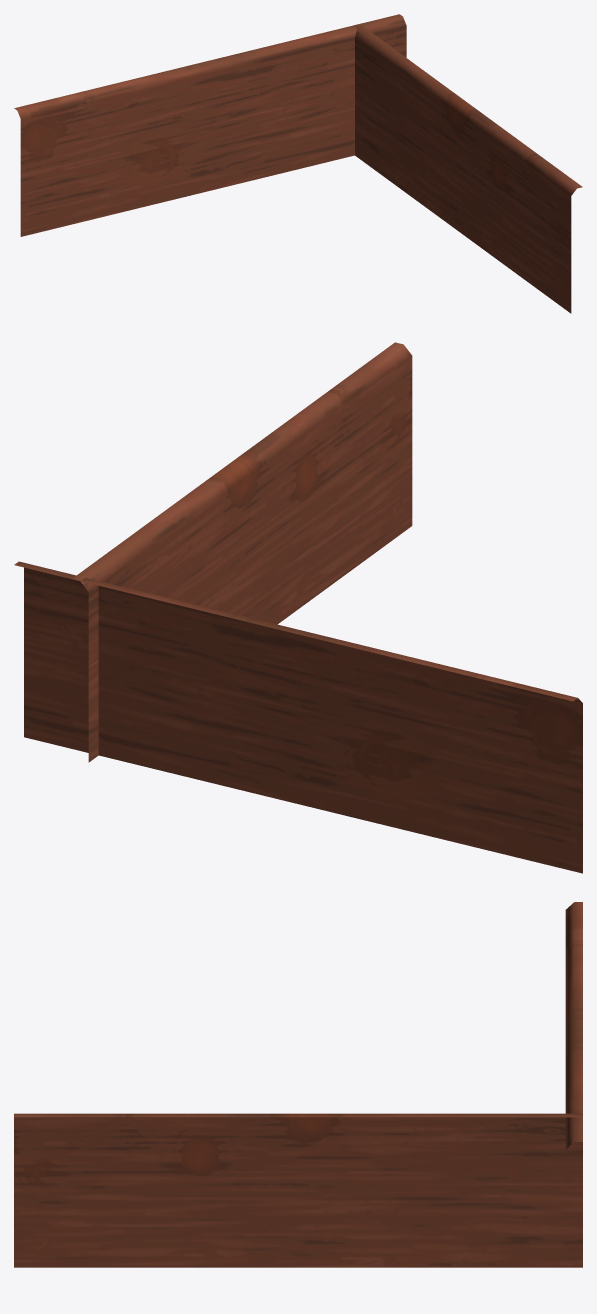
File: En_W_Woodtrim_corner3.fbx
3 renders of one model, top to bottom at view 1: azimuth 30°, elevation 25°; view 2: azimuth 150°, elevation 25°; view 3: azimuth 270°, elevation 25°, orthographic. The views are drawn at different scales.
Visible parts, largest first — view 1: En_W_Woodtrim_corner3; view 2: En_W_Woodtrim_corner3; view 3: En_W_Woodtrim_corner3.
Boxes of the visible parts, bbox=[...] form: En_W_Woodtrim_corner3: bbox=[14, 14, 582, 313]; En_W_Woodtrim_corner3: bbox=[14, 342, 582, 873]; En_W_Woodtrim_corner3: bbox=[14, 902, 582, 1267].
Bounding box in the file's own units: 200 × 61.34 × 200.
